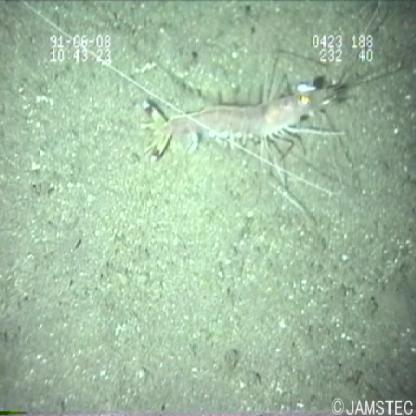Bio: (136, 13, 404, 216)
